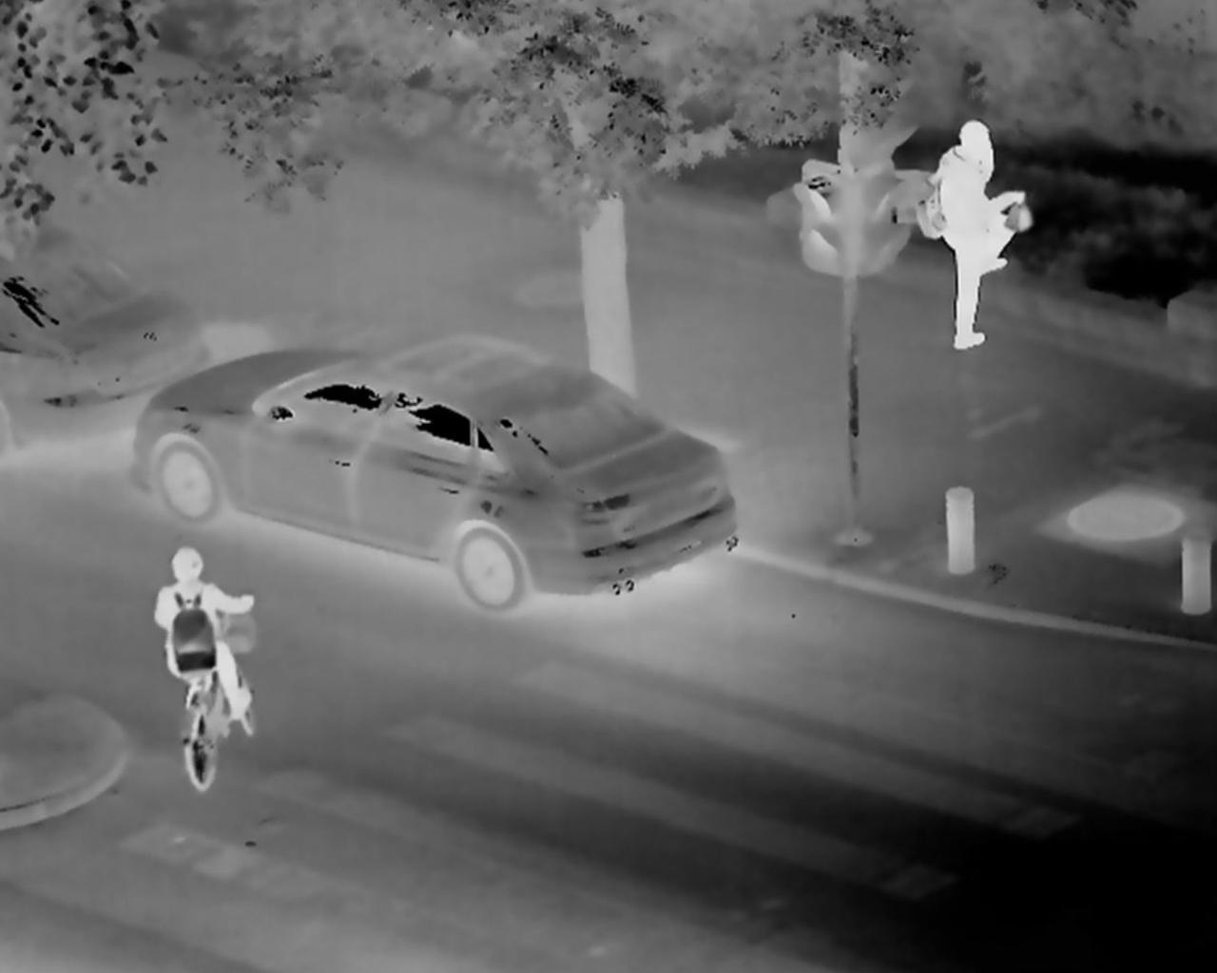person: (906, 118, 1038, 368), (145, 547, 267, 738)
